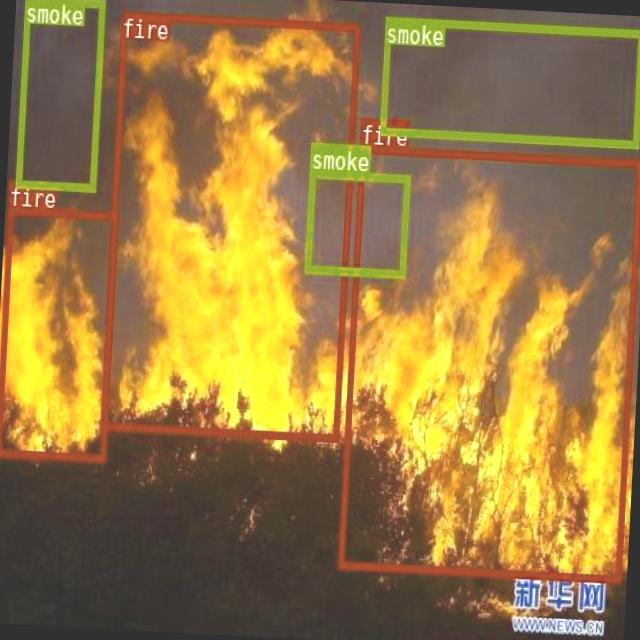fire: (336, 145, 640, 582), (99, 9, 360, 440), (0, 206, 118, 461)
smoke: (379, 15, 640, 147), (15, 0, 105, 190), (304, 168, 408, 276)
